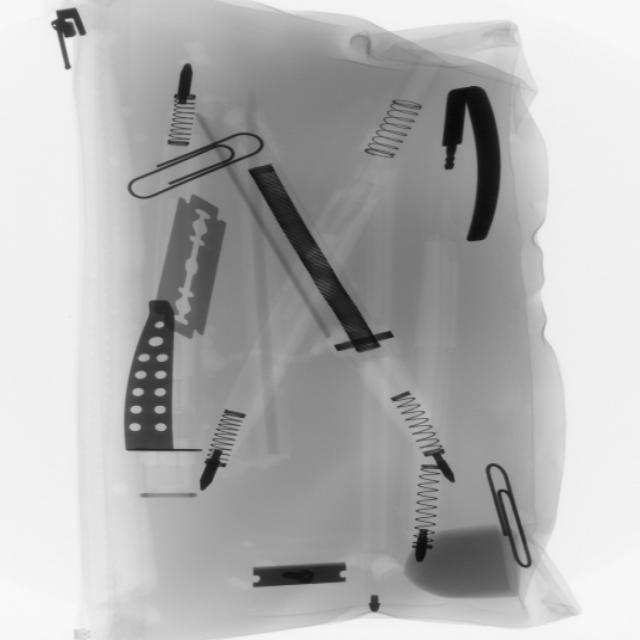BLADE: (148, 186, 237, 350)
